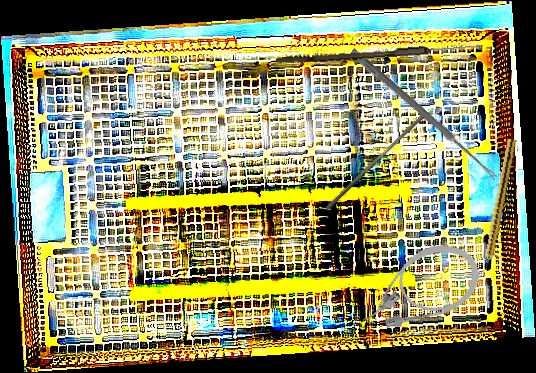Cannula: (347, 233, 489, 342)
Handpiece: (479, 138, 517, 274)
Pusher: (323, 108, 428, 216)
Surgical Spoon: (348, 48, 500, 181), (275, 39, 484, 69)
